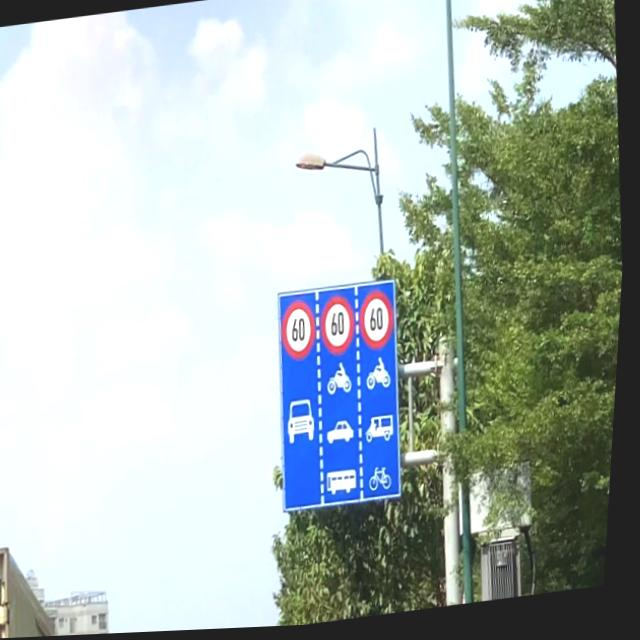Toc do toi da cho phep: (281, 300, 323, 366), (359, 291, 401, 356), (321, 296, 363, 361)
